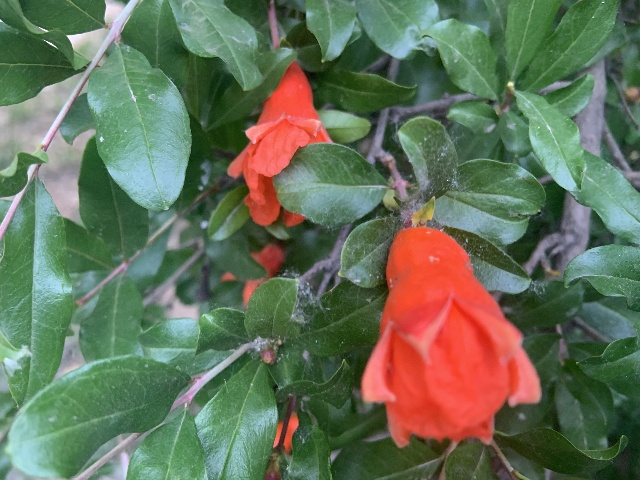flower: (360, 225, 540, 448), (227, 60, 333, 227), (220, 243, 285, 307)
